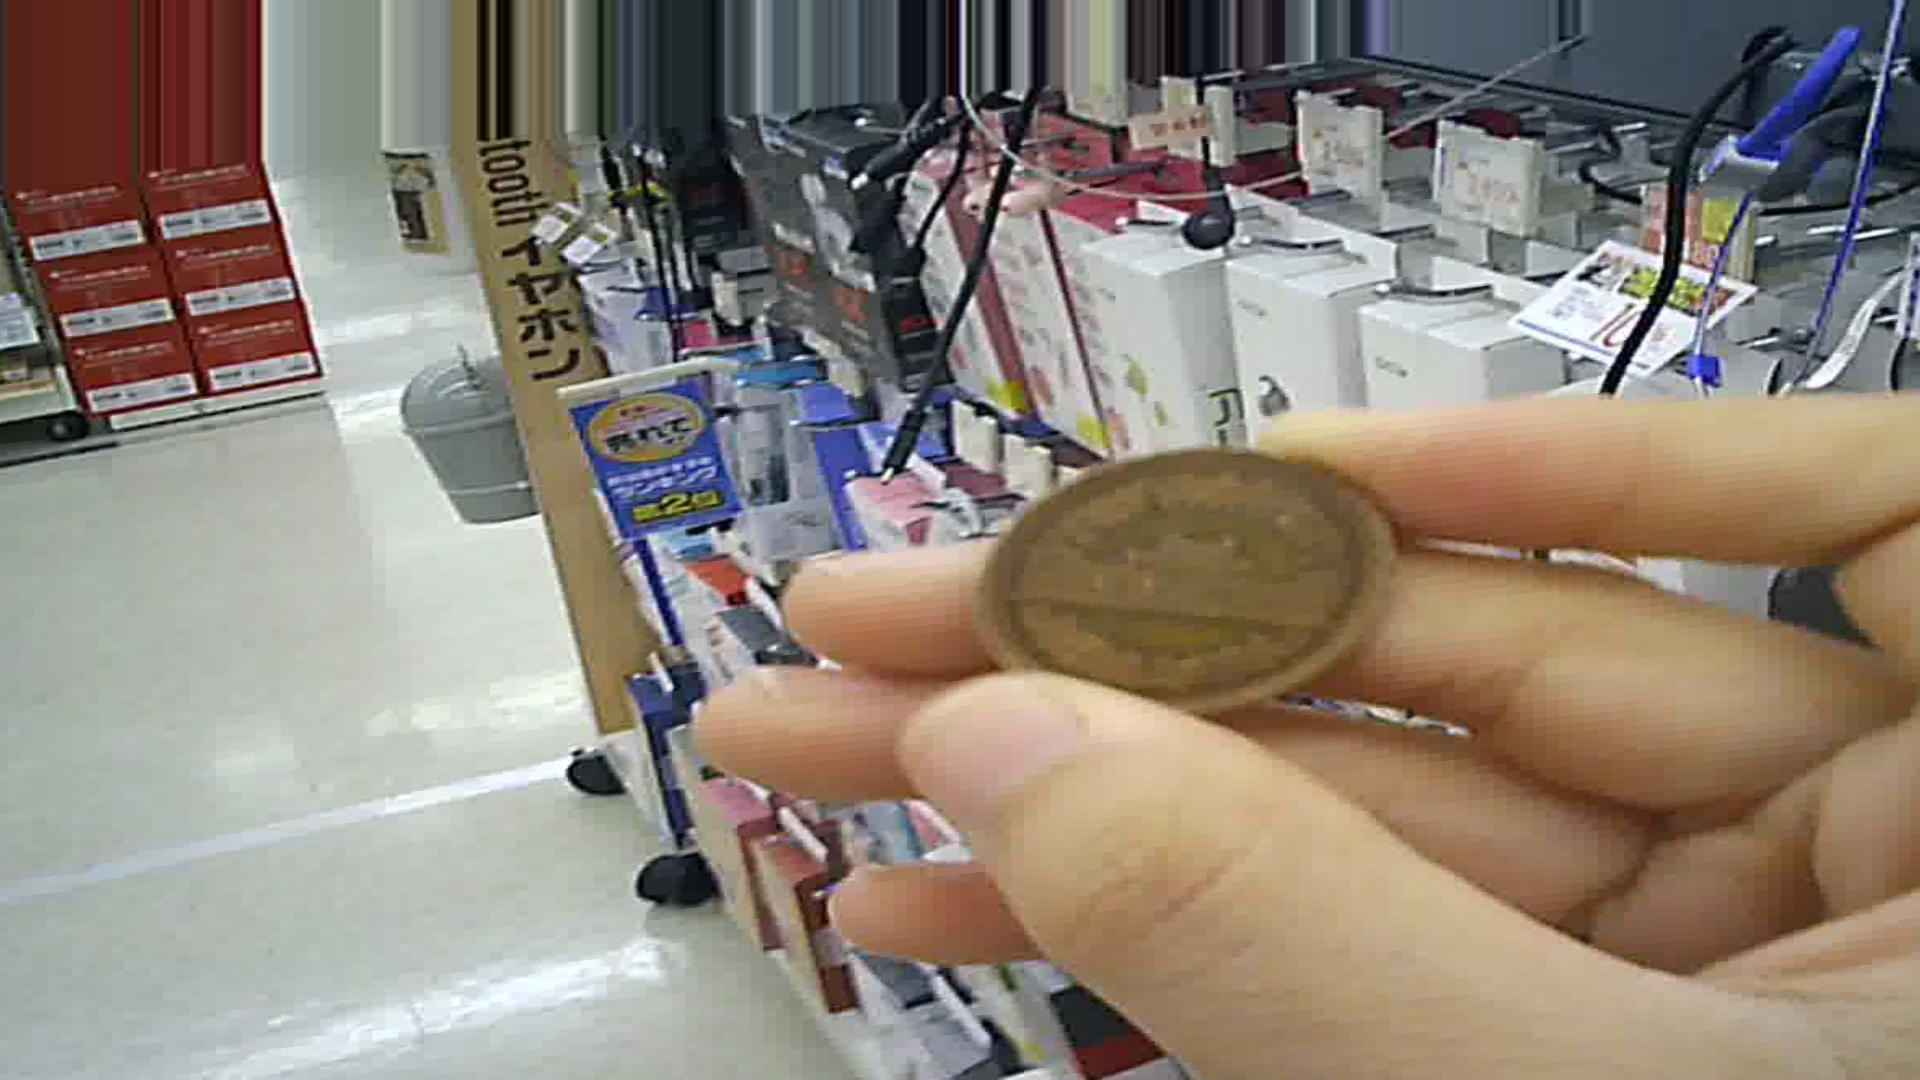10 Yen: (978, 440, 1389, 721)
